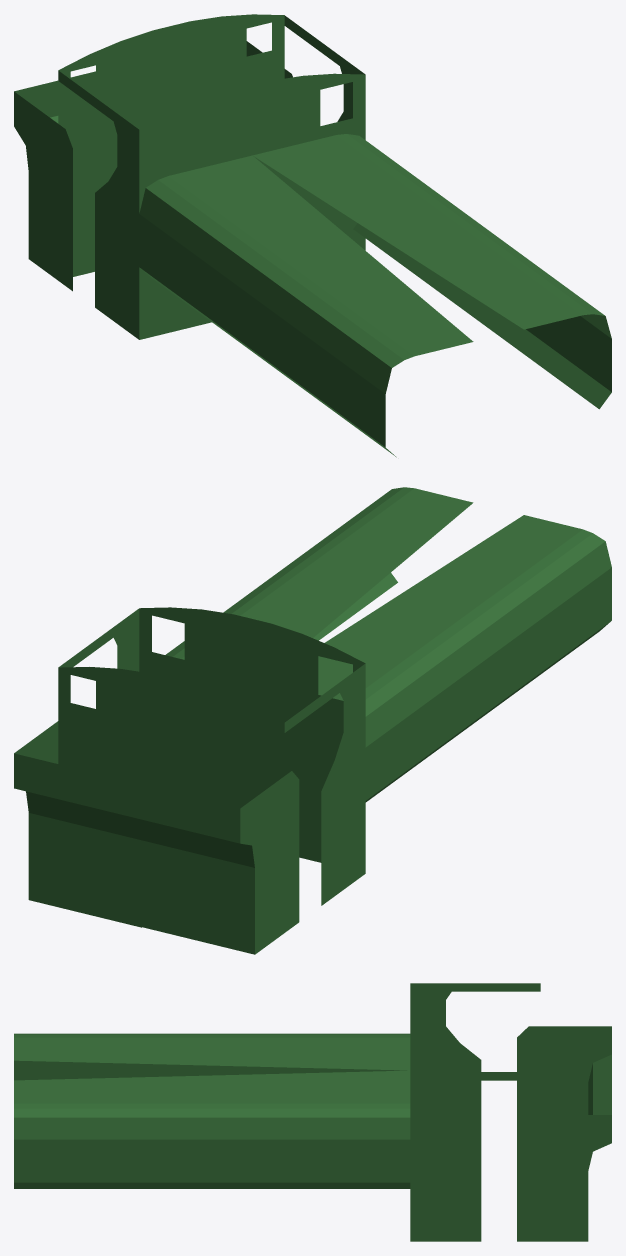
File: gwr-pannier-cabs-and-tanks.dae
3 renders of one model, top to bottom at view 1: azimuth 30°, elevation 25°; view 2: azimuth 150°, elevation 25°; view 3: azimuth 270°, elevation 25°, orthographic. The views are drawn at different scales.
Visible parts, largest first — view 1: Plane_019, Plane_008; view 2: Plane_019, Plane_008; view 3: Plane_008, Plane_019.
Part boxes in pixels (bbox=[...]): Plane_019: bbox=[14, 26, 473, 457]; Plane_008: bbox=[171, 14, 611, 409]; Plane_019: bbox=[127, 515, 611, 954]; Plane_008: bbox=[14, 487, 473, 927]; Plane_008: bbox=[14, 1070, 611, 1241]; Plane_019: bbox=[14, 983, 611, 1148].
Size of the model in its own units: 1.67 by 4.74 by 1.6.
